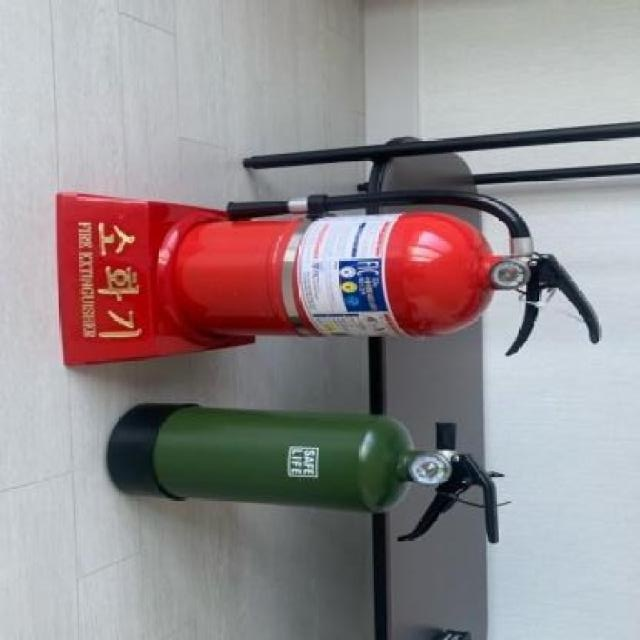fire extinguisher: (175, 189, 602, 357), (107, 403, 511, 545)
